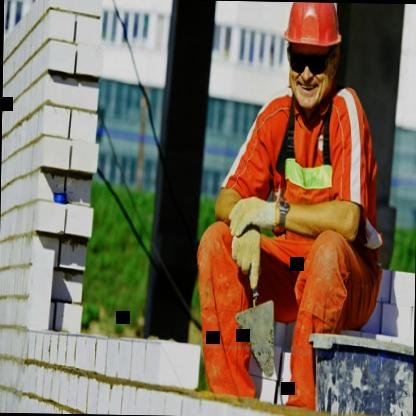helmet: (272, 1, 346, 115)
